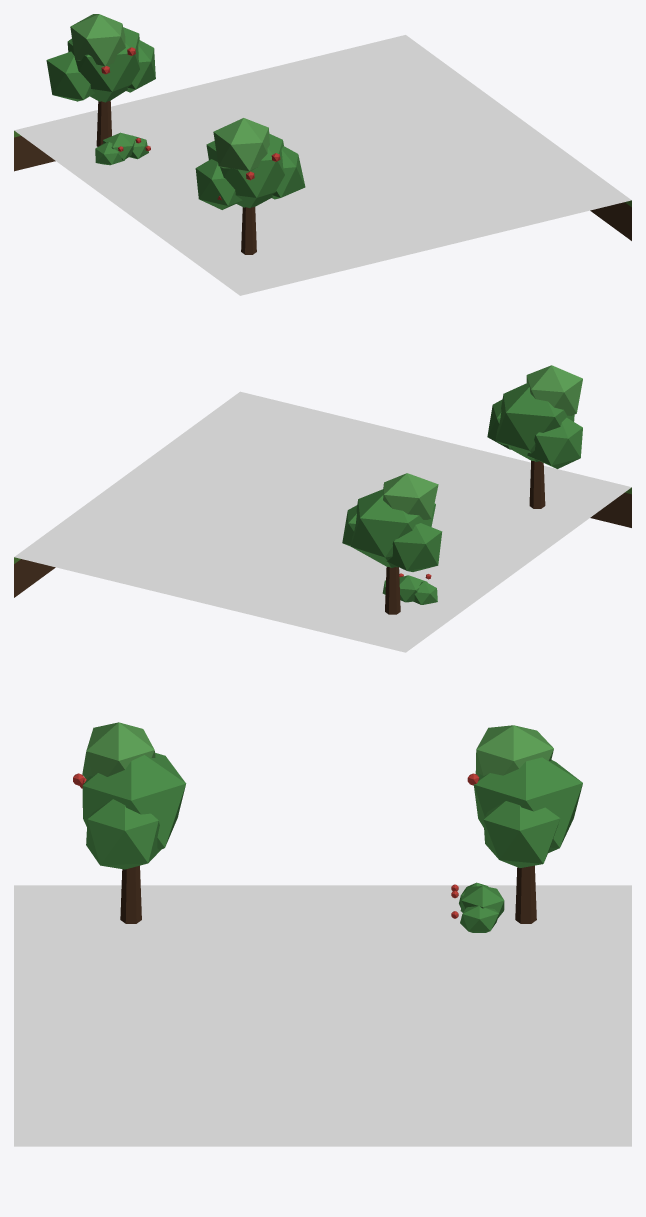
The model's file is brHalf.glb.
The picture shows the model from 3 angles, top to bottom: view 1: azimuth 30°, elevation 25°; view 2: azimuth 150°, elevation 25°; view 3: azimuth 270°, elevation 25°; orthographic projection. The views are drawn at different scales.
Visible parts, largest first — view 1: brHalf; view 2: brHalf; view 3: brHalf.
Boxes of the visible parts, x1,y1,x2,y2 form: brHalf: [14, 14, 631, 295]; brHalf: [14, 365, 631, 652]; brHalf: [14, 722, 631, 1146].
Size of the model in its own units: 2 by 0.8823 by 2.
